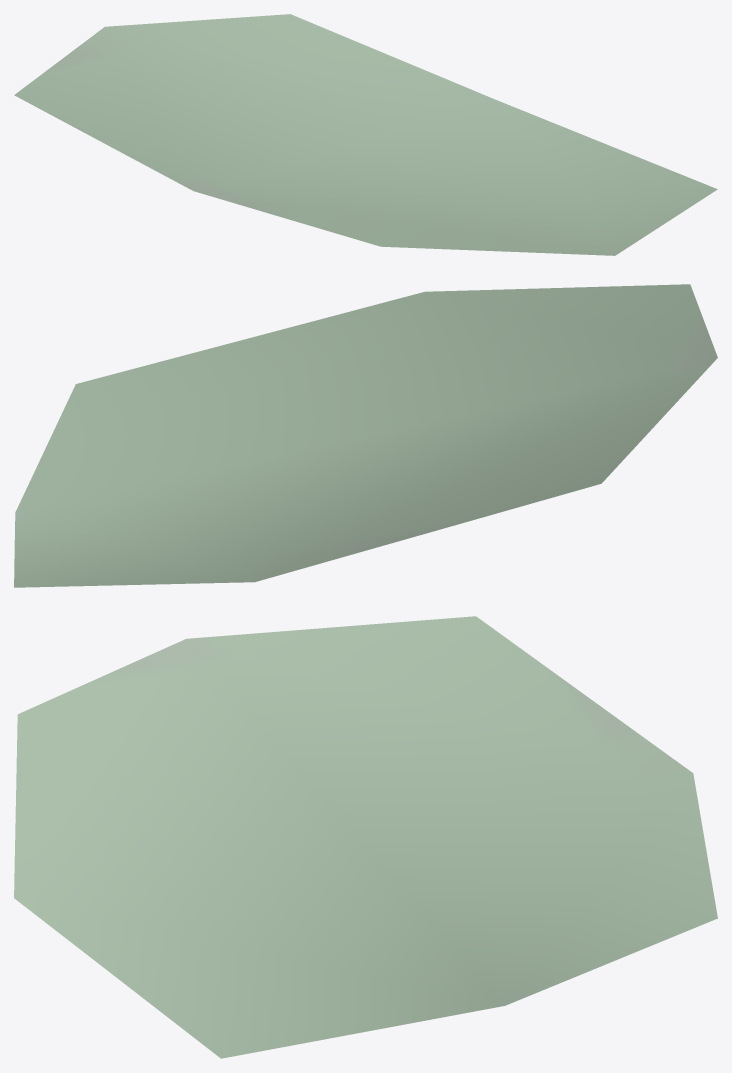
Rendered from TROLLHOLE02_HOLECAP105.fbx.
3 renders of one model, top to bottom at view 1: azimuth 30°, elevation 25°; view 2: azimuth 150°, elevation 25°; view 3: azimuth 270°, elevation 25°, orthographic. The views are drawn at different scales.
Parts seen in each view (by area): view 1: TROLLHOLE02_HOLECAP105; view 2: TROLLHOLE02_HOLECAP105; view 3: TROLLHOLE02_HOLECAP105.
Boxes of the visible parts, bbox=[...] form: TROLLHOLE02_HOLECAP105: bbox=[14, 14, 717, 255]; TROLLHOLE02_HOLECAP105: bbox=[14, 284, 717, 587]; TROLLHOLE02_HOLECAP105: bbox=[14, 616, 717, 1058].
Size of the model in its own units: 27636 by 6613 by 28113.
Materials: 1 (1 with a texture image).
